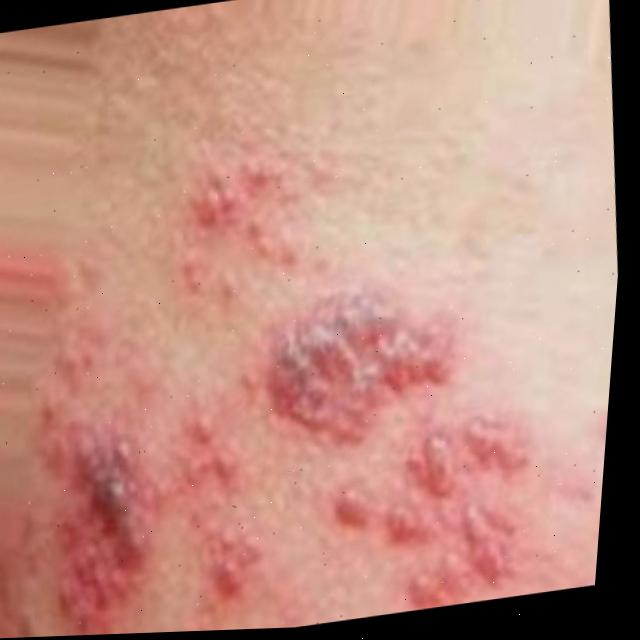Shingles: (0, 108, 630, 640)
